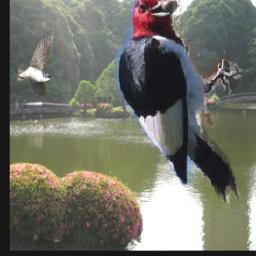Swallow: (17, 28, 55, 99)
Woodpecker: (114, 0, 247, 208)
